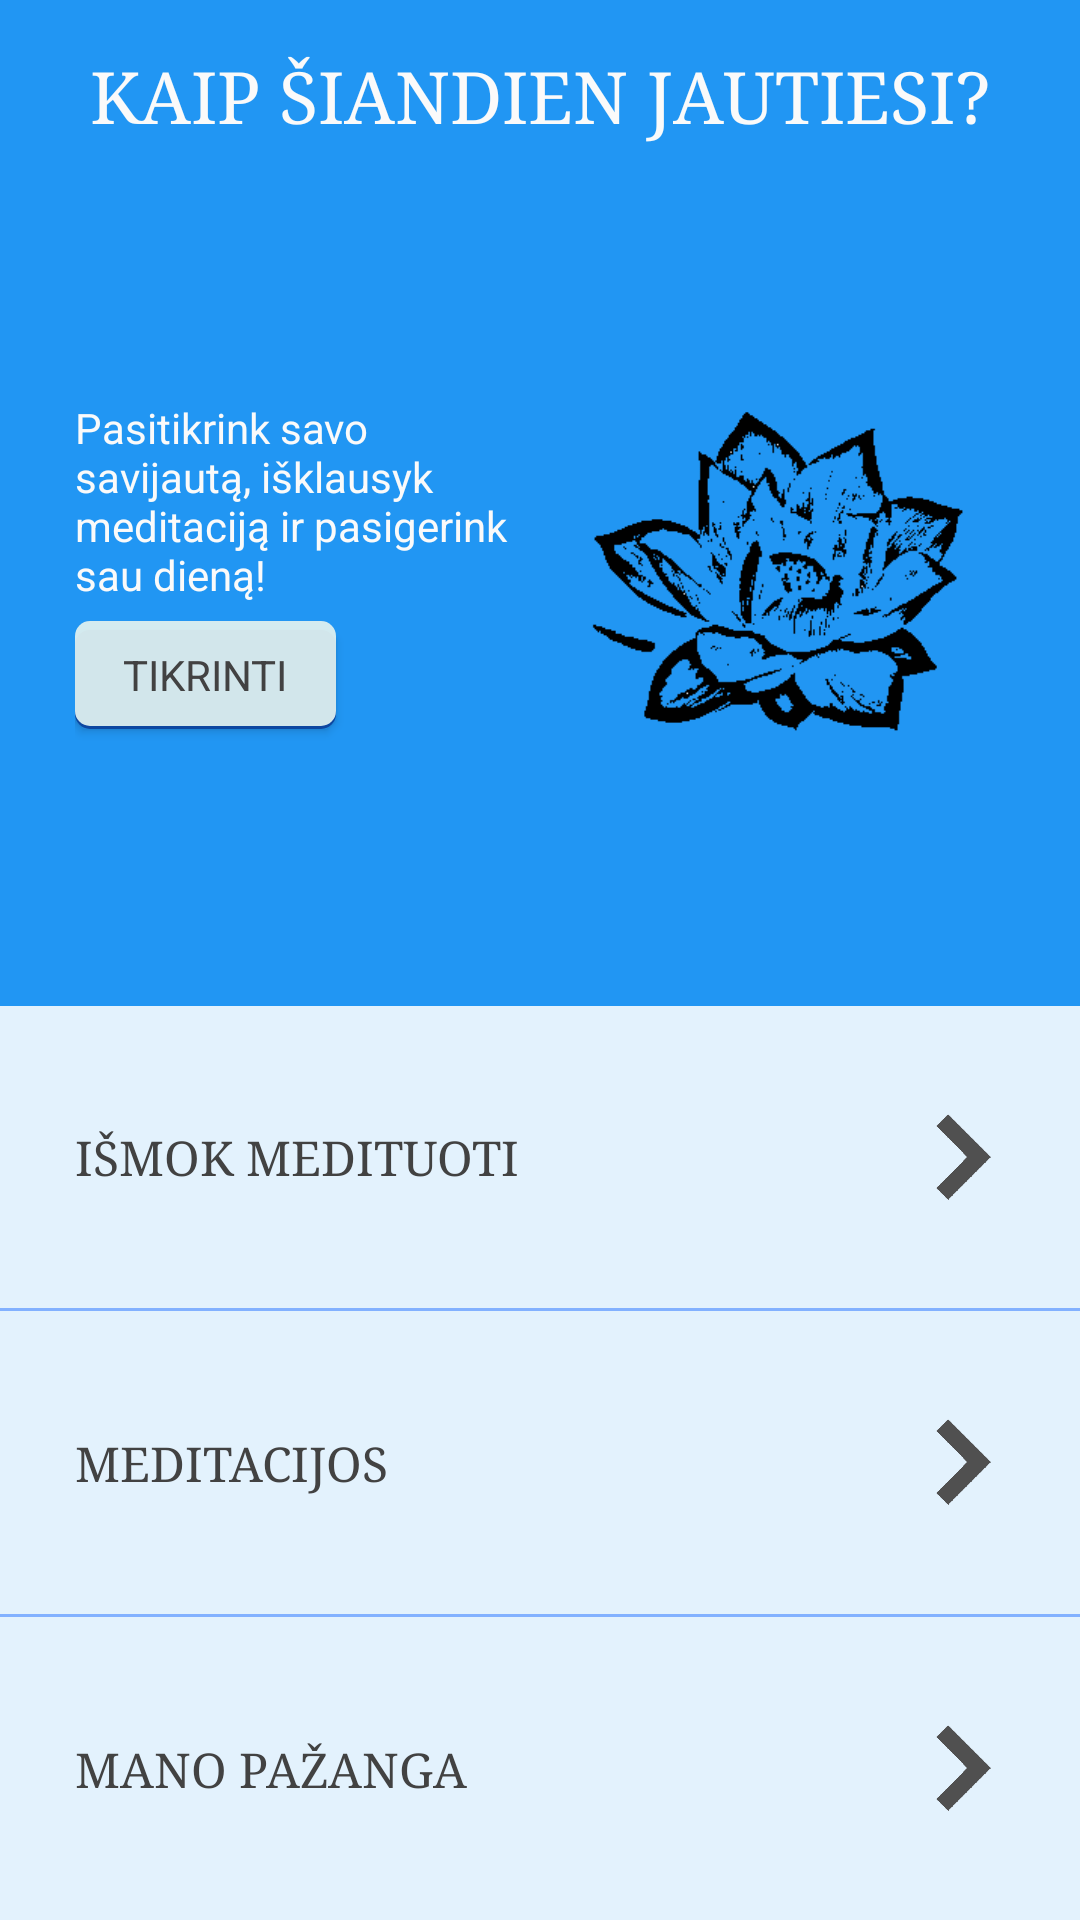

Screen size 1080*1920. Icon name, then its box in pixels as (x1, y1, x2, y2):
Arrow: (936, 1115, 991, 1200), (937, 1420, 991, 1505), (937, 1726, 991, 1811)
